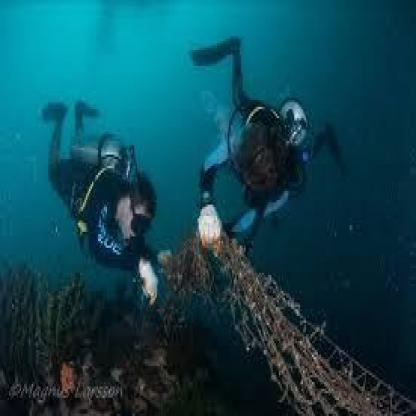net: (230, 257, 416, 416)
